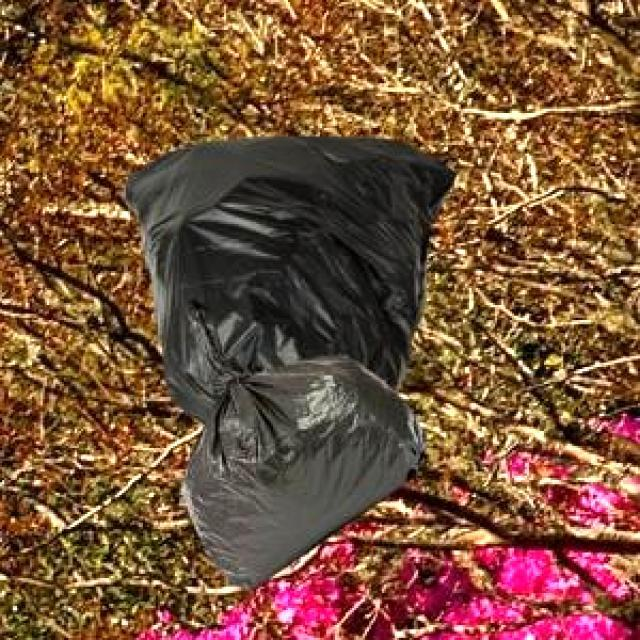Garbage_Bag: (120, 134, 452, 422), (178, 293, 426, 586)
